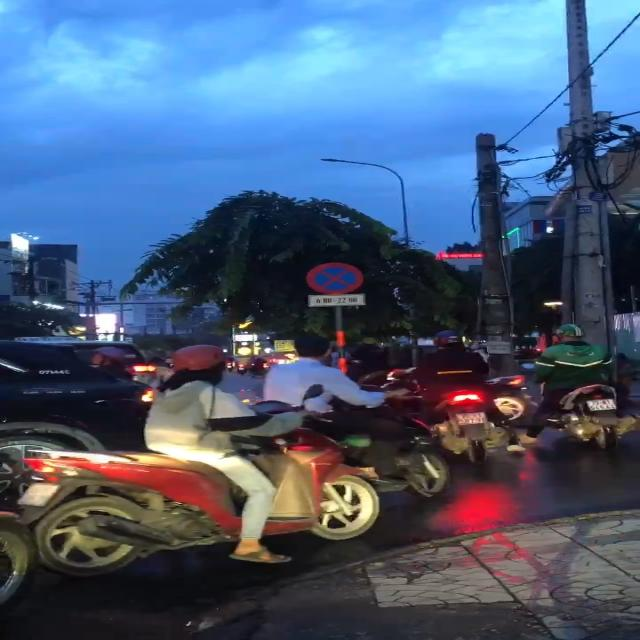Bien bao cam dung xe va do xe: (300, 261, 370, 294)
